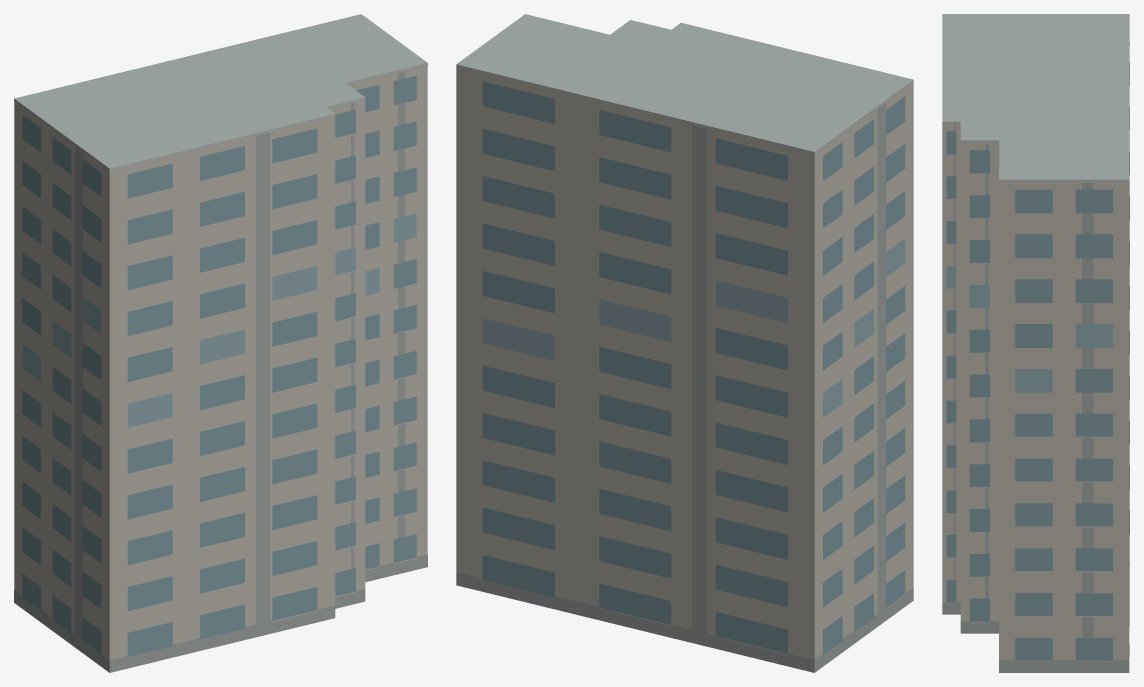
File: residential-066c152f-5269-49bc-85f7-2278f4116194.glb
3 views of the same model, side by side, from view 1: azimuth 30°, elevation 25°; view 2: azimuth 150°, elevation 25°; view 3: azimuth 270°, elevation 25° (orthographic). The views are drawn at different scales.
Parts seen in each view (by area): view 1: residential-066c152f-5269-49bc-85f7-2278f4116194.tmp; view 2: residential-066c152f-5269-49bc-85f7-2278f4116194.tmp; view 3: residential-066c152f-5269-49bc-85f7-2278f4116194.tmp.
Part boxes in pixels (bbox=[...]): residential-066c152f-5269-49bc-85f7-2278f4116194.tmp: bbox=[14, 14, 427, 672]; residential-066c152f-5269-49bc-85f7-2278f4116194.tmp: bbox=[456, 14, 913, 672]; residential-066c152f-5269-49bc-85f7-2278f4116194.tmp: bbox=[942, 14, 1129, 672].
Size of the model in its own units: 28.85 by 40 by 13.82.
